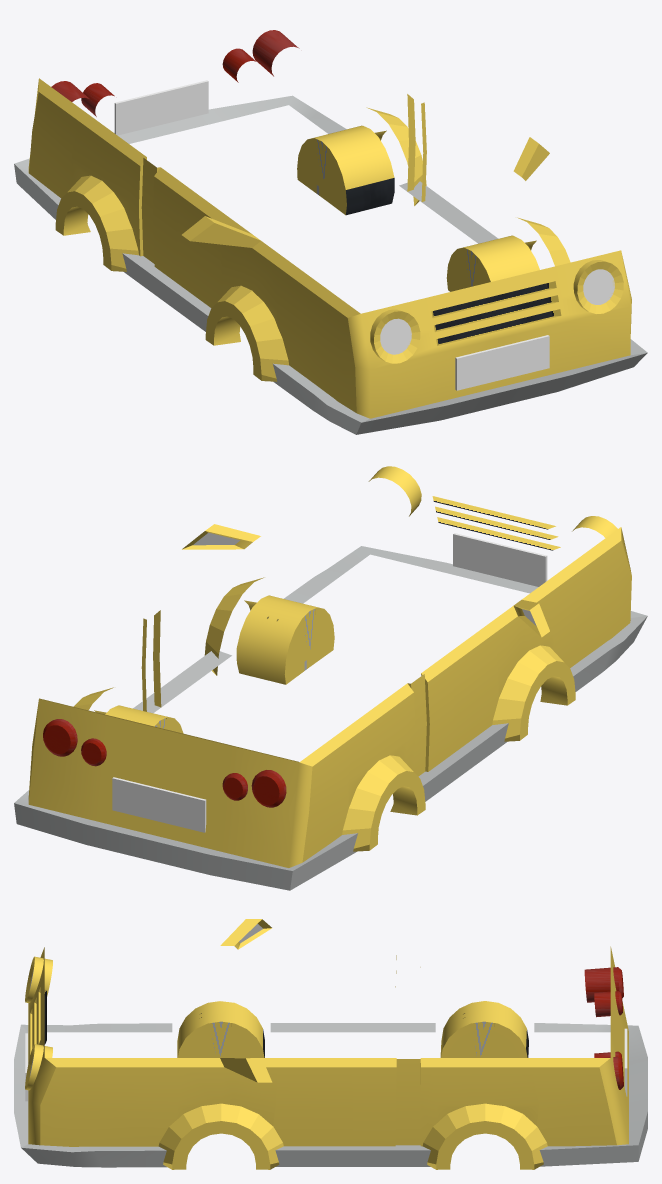
Rendered from VINTAGE-BOTTOM-fGpZtGwZ.glb.
The picture shows the model from 3 angles, top to bottom: view 1: azimuth 30°, elevation 25°; view 2: azimuth 150°, elevation 25°; view 3: azimuth 270°, elevation 25°; orthographic projection. The views are drawn at different scales.
Size of the model in its own units: 2.08 by 0.737 by 3.6.
Materials: 2 (2 with a texture image).
